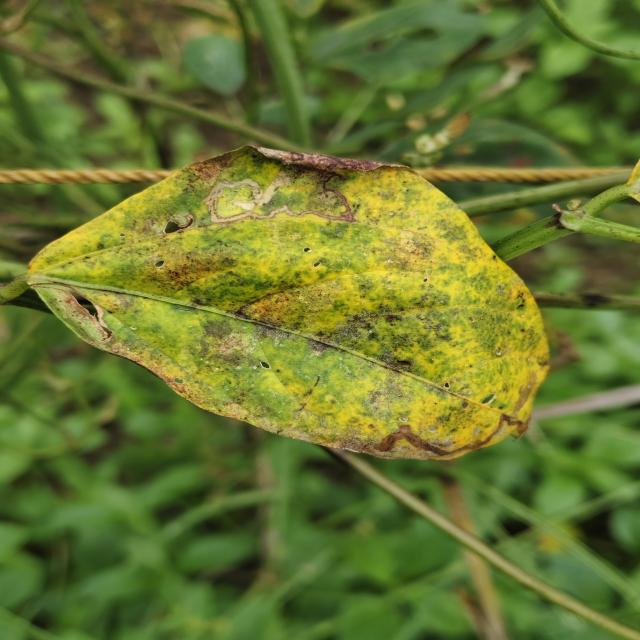leaf-moderate: (0, 146, 548, 460)
